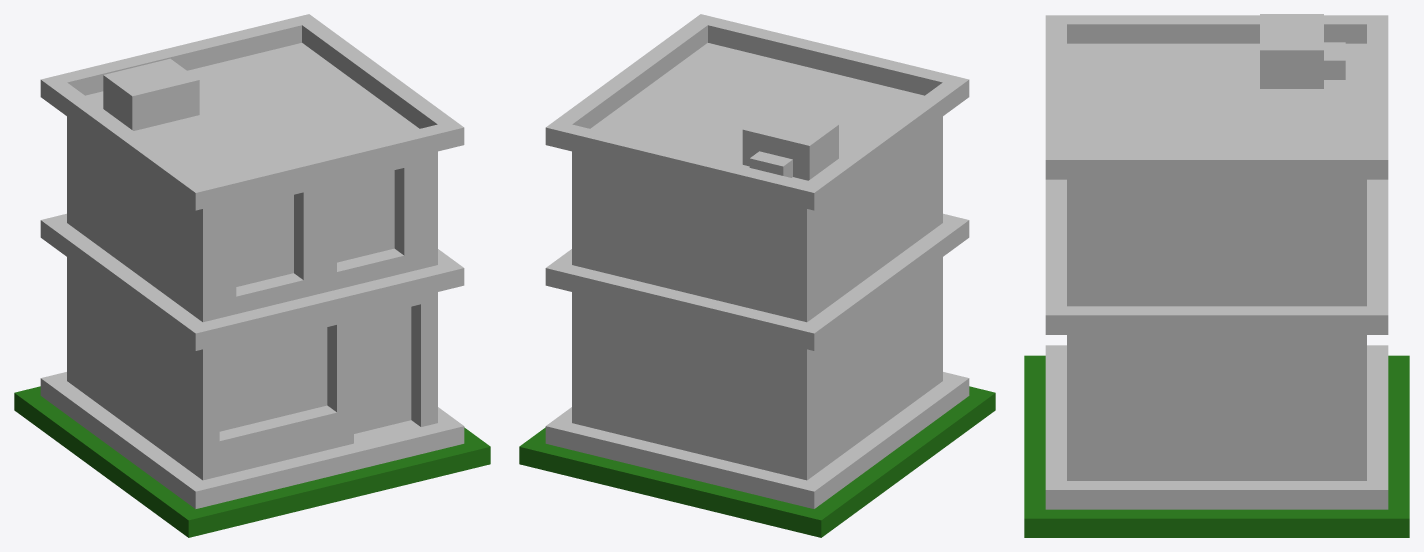
The picture shows the model from 3 angles, left to right: view 1: azimuth 30°, elevation 25°; view 2: azimuth 150°, elevation 25°; view 3: azimuth 270°, elevation 25°; orthographic projection. The views are drawn at different scales.
Visible parts, largest first — view 1: store_8; view 2: store_8; view 3: store_8.
Boxes of the visible parts, left/top/right/bottom form: store_8: left=14, top=14, right=490, bottom=537; store_8: left=519, top=14, right=995, bottom=537; store_8: left=1024, top=14, right=1409, bottom=537.
Size of the model in its own units: 4.5 by 5 by 4.5.
